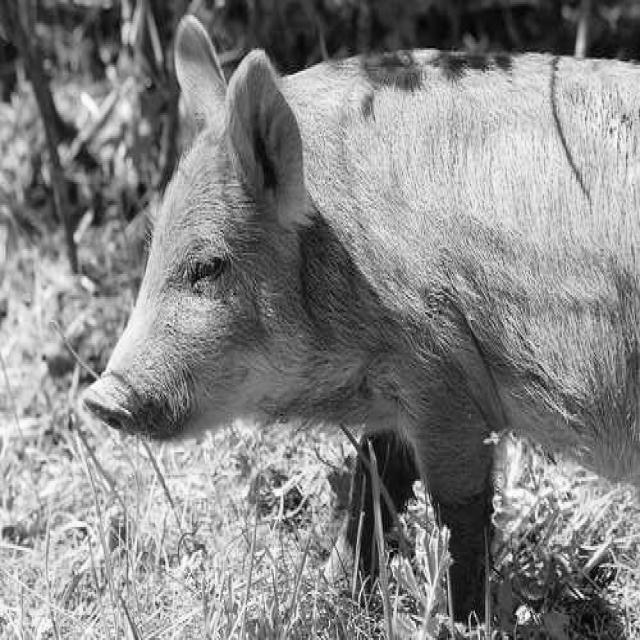boar: (84, 13, 637, 615)
